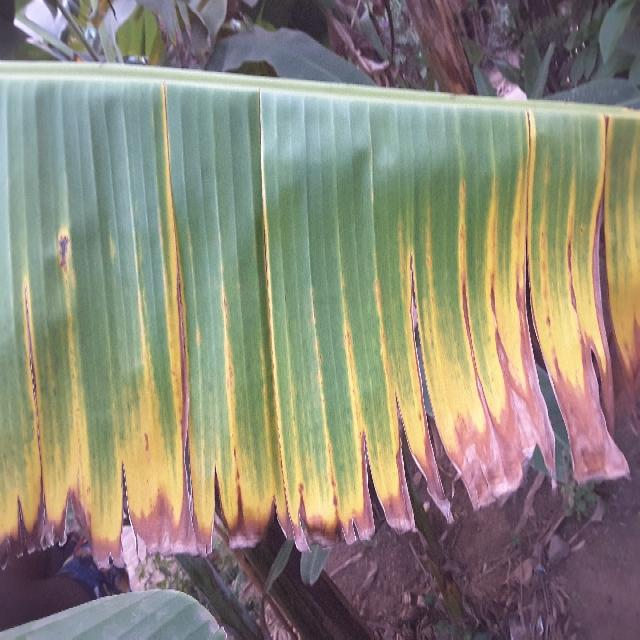Cordana: (0, 73, 640, 570)
